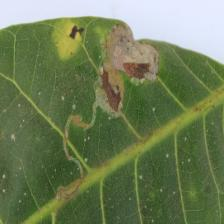leaf miner: (77, 19, 175, 131)
